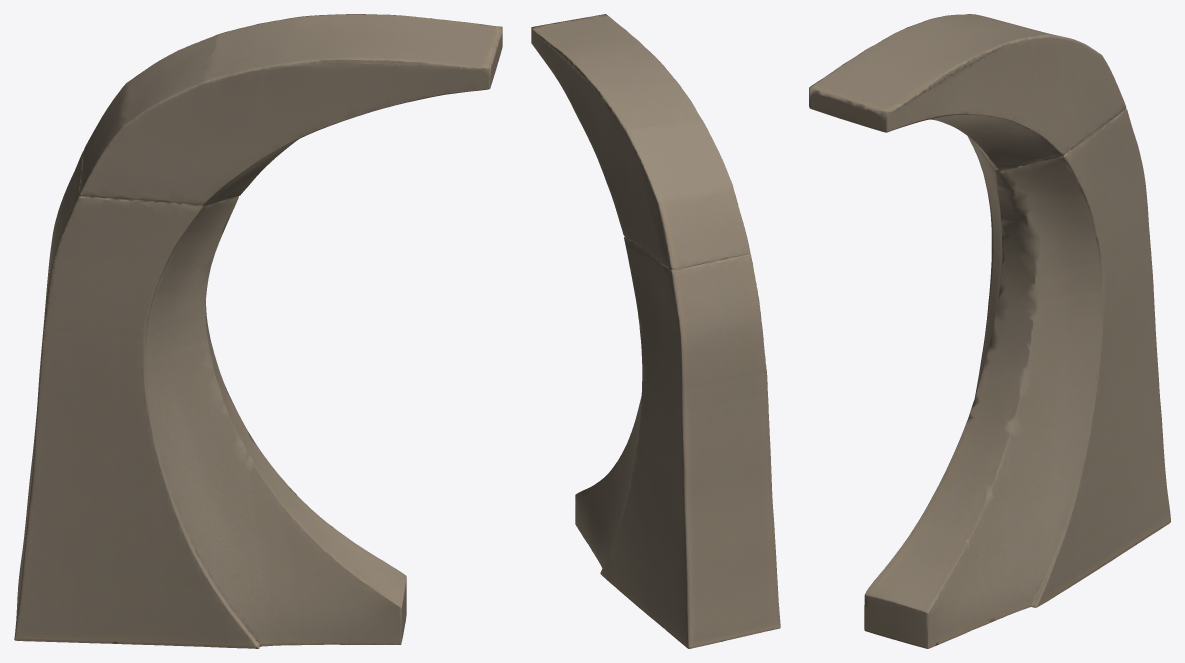
Rendered from columnavet1.glb.
3 renders of one model, left to right at view 1: azimuth 30°, elevation 25°; view 2: azimuth 150°, elevation 25°; view 3: azimuth 270°, elevation 25°, orthographic. The views are drawn at different scales.
Visible parts, largest first — view 1: tripo_node_a3790673-d19c-46ae-ad65-39344981481b; view 2: tripo_node_a3790673-d19c-46ae-ad65-39344981481b; view 3: tripo_node_a3790673-d19c-46ae-ad65-39344981481b.
Part boxes in pixels (x1,y1,x2,y2): tripo_node_a3790673-d19c-46ae-ad65-39344981481b: (14, 14, 502, 648); tripo_node_a3790673-d19c-46ae-ad65-39344981481b: (531, 14, 780, 648); tripo_node_a3790673-d19c-46ae-ad65-39344981481b: (809, 14, 1170, 648).
Size of the model in its own units: 0.6919 by 0.9792 by 0.554.
1 material, 1 textured.
